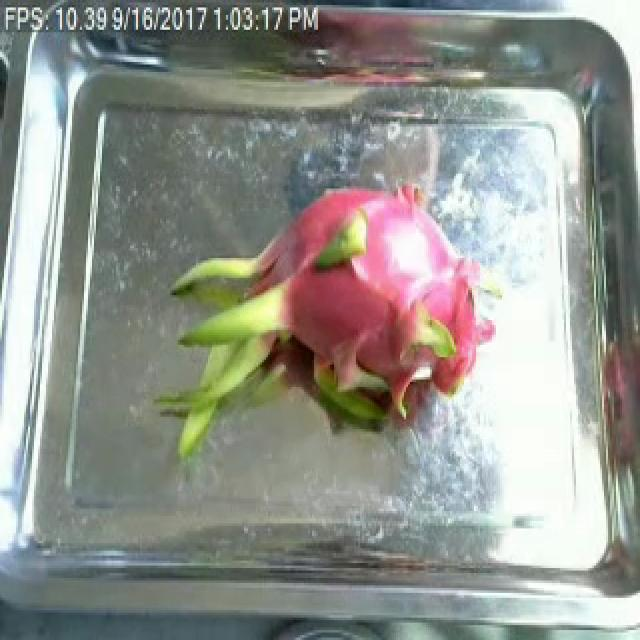fruit: (144, 156, 488, 482)
